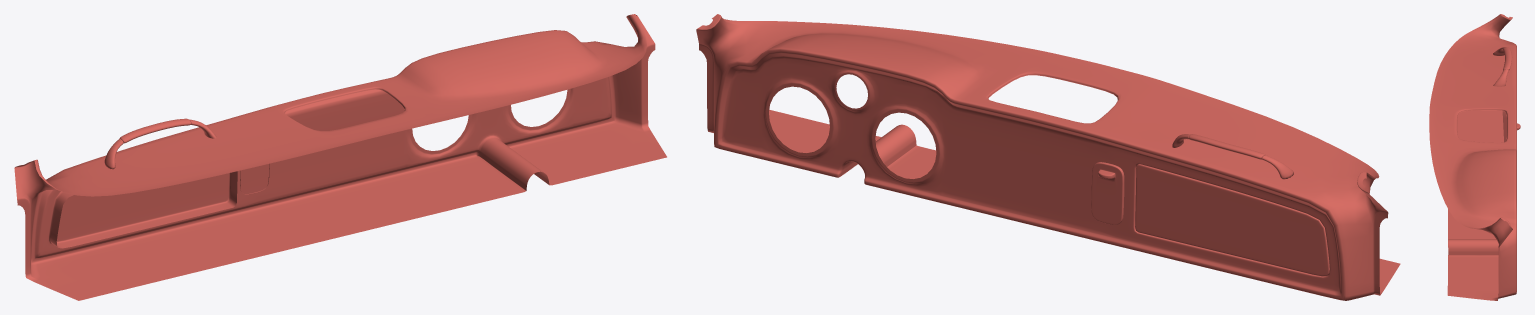
The model's file is body_04.fbx.
The picture shows the model from 3 angles, left to right: view 1: azimuth 30°, elevation 25°; view 2: azimuth 150°, elevation 25°; view 3: azimuth 270°, elevation 25°; orthographic projection. The views are drawn at different scales.
Parts seen in each view (by area): view 1: body_04; view 2: body_04; view 3: body_04.
Part boxes in pixels (bbox=[...]): body_04: bbox=[14, 14, 666, 300]; body_04: bbox=[696, 14, 1400, 300]; body_04: bbox=[1429, 14, 1520, 300].
Size of the model in its own units: 321 by 55.04 by 57.07.
